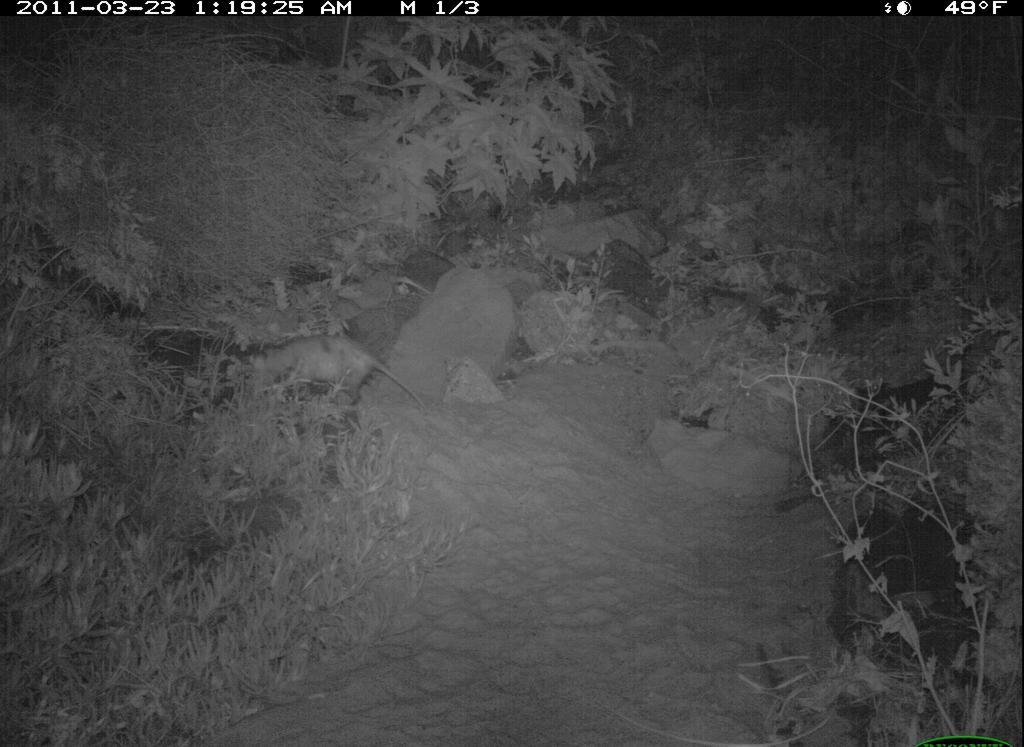opossum: (217, 325, 430, 421)
